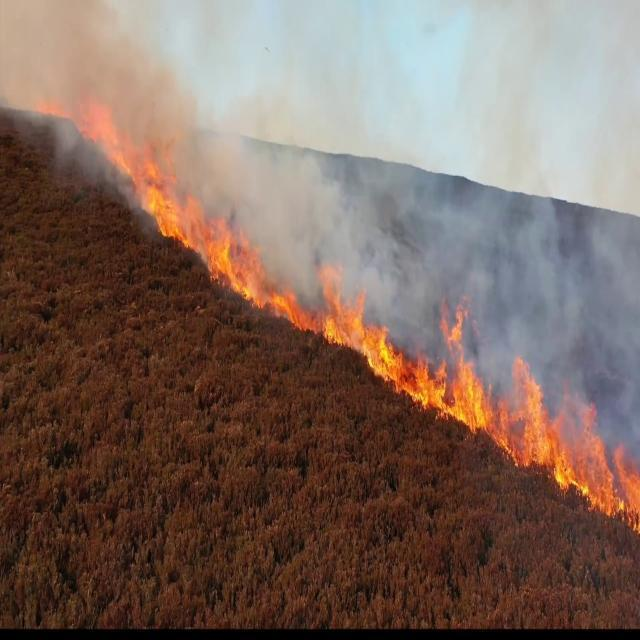Fire: (513, 353, 640, 538), (315, 262, 403, 395), (441, 292, 488, 438), (197, 226, 264, 311), (404, 341, 436, 406)
Smoke: (495, 155, 640, 373), (327, 179, 450, 309)
